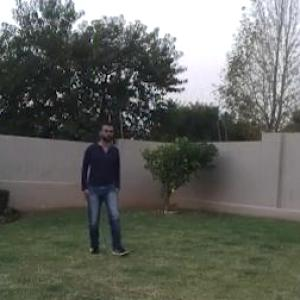follow: (78, 118, 128, 258)
